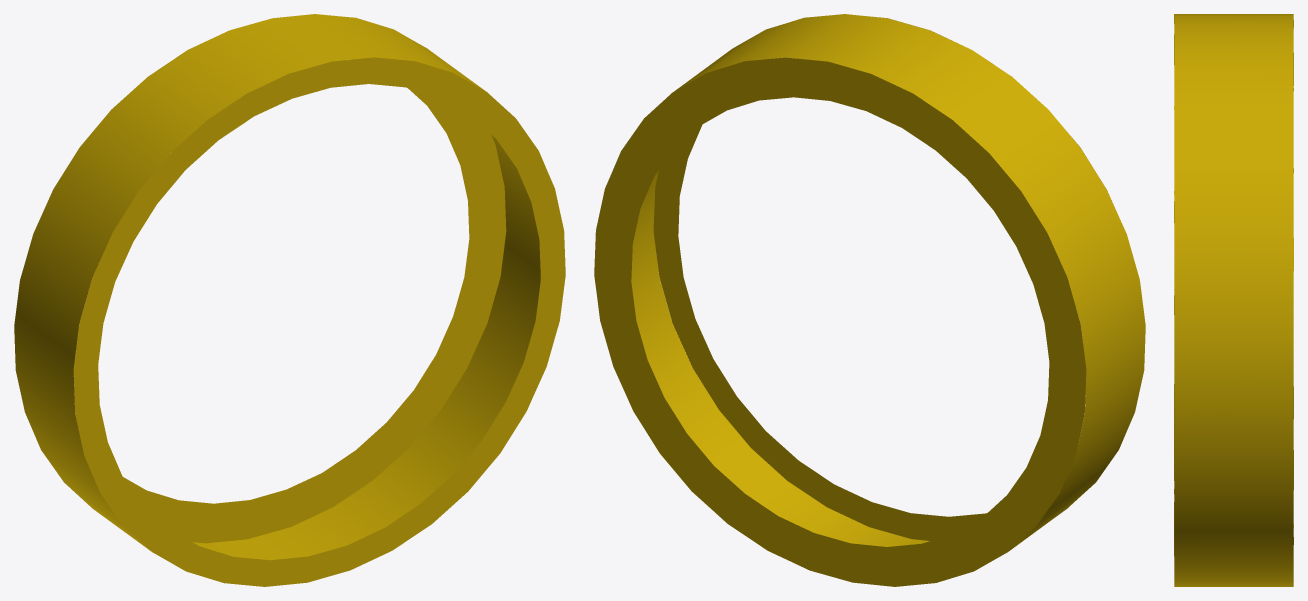
File: original-4.obj
3 views of the same model, side by side, from view 1: azimuth 30°, elevation 25°; view 2: azimuth 150°, elevation 25°; view 3: azimuth 270°, elevation 25° (orthographic).
Visible parts, largest first — view 1: #ID21; view 2: #ID21; view 3: #ID21.
Boxes of the visible parts, x1=… form: #ID21: x1=14, y1=14, x2=565, y2=586; #ID21: x1=594, y1=14, x2=1145, y2=586; #ID21: x1=1174, y1=14, x2=1293, y2=586.
Bounding box in the file's own units: 0.5 × 0.5 × 0.1045.
